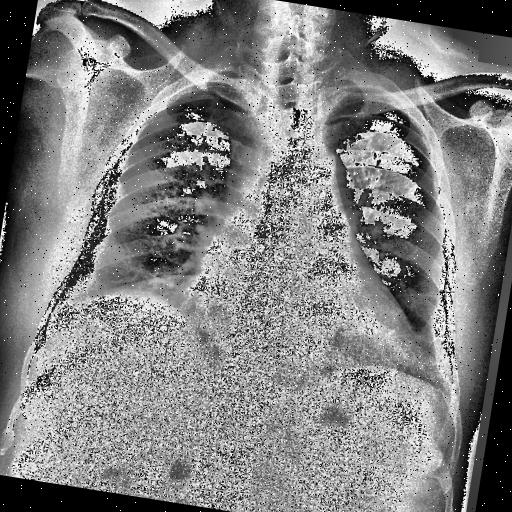0- Aortic enlargement: (223, 137, 364, 239), (276, 138, 366, 234), (282, 140, 368, 226)
3- Cardiomegaly: (172, 256, 438, 376), (168, 267, 428, 388), (169, 270, 424, 372)
